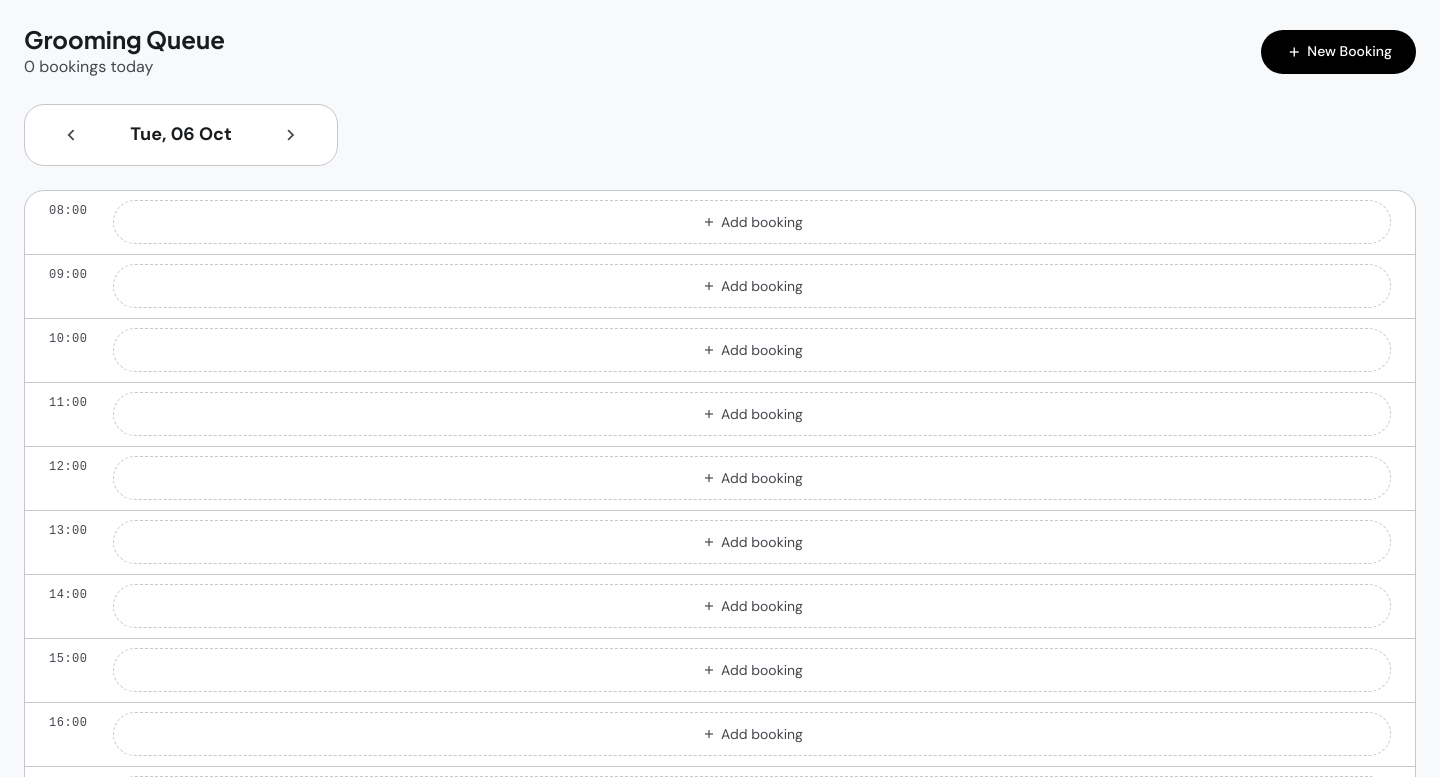
Test: ClinicGrooming — booking modal (Dialog migration, MODAL-7) › is closed by default and opens on "New Booking"
Click the button "New Booking" at (1339,52), box x1=1261 y1=30 x2=1416 y2=74
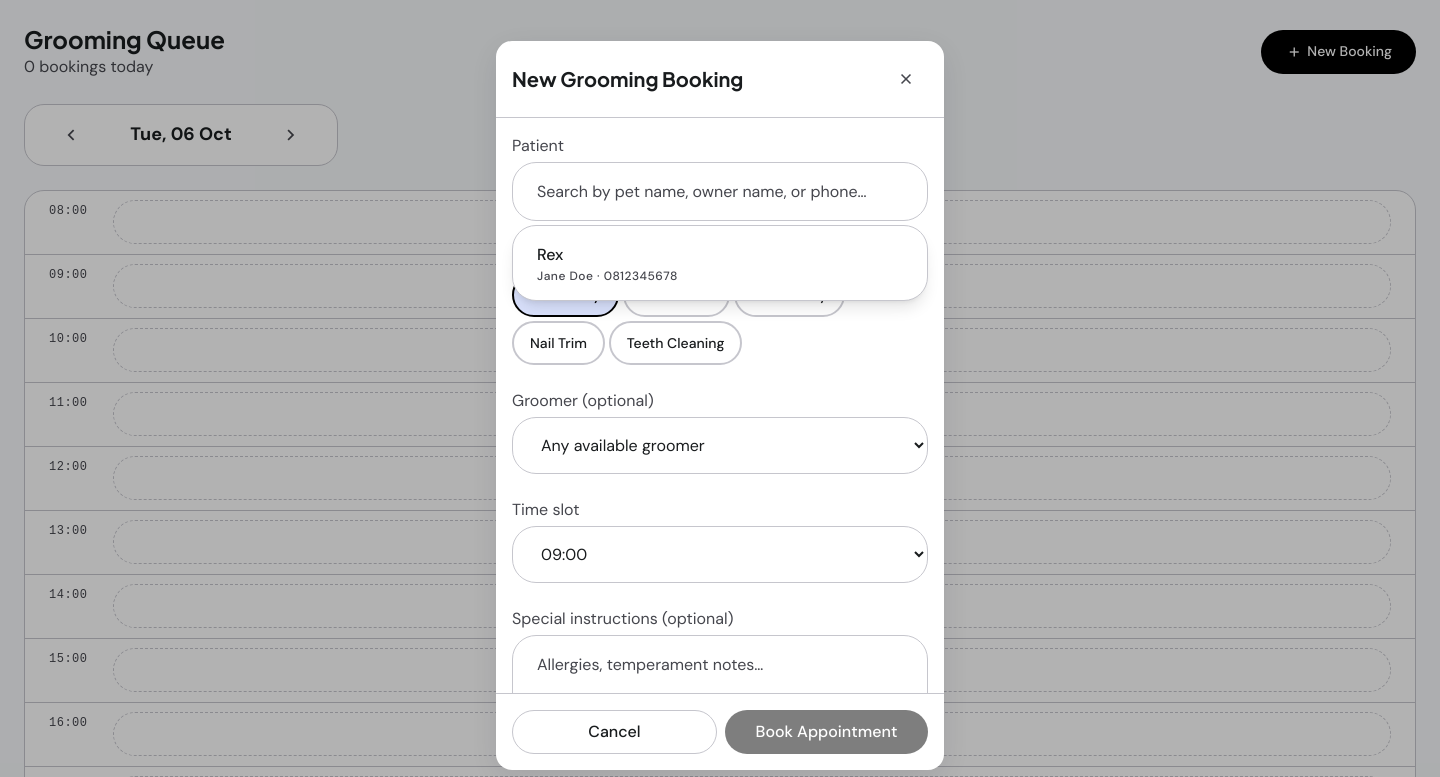
Result: the dialog is shown at x1=496 y1=40 x2=944 y2=770
Result: the heading "New Grooming Booking" is shown at x1=512 y1=66 x2=743 y2=92
